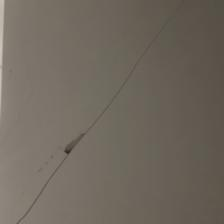Medium: (14, 69, 138, 221)
